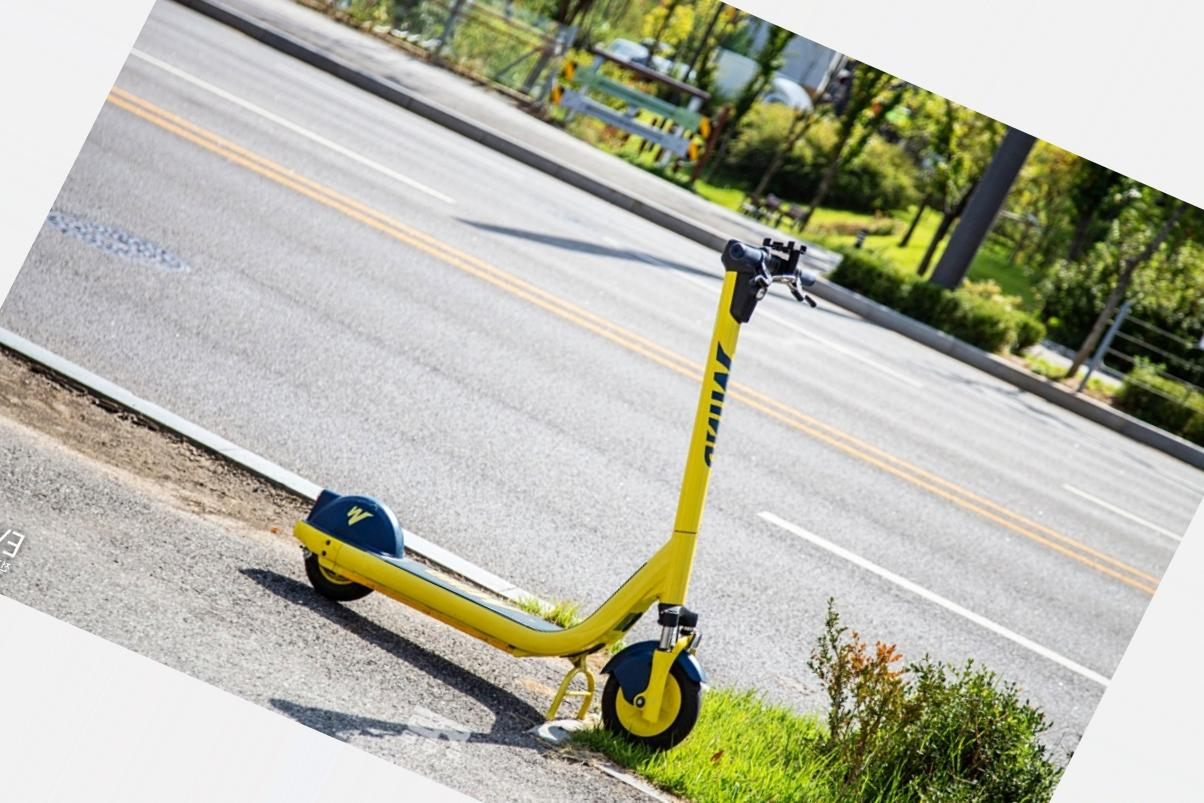scooter: (290, 235, 815, 754)
